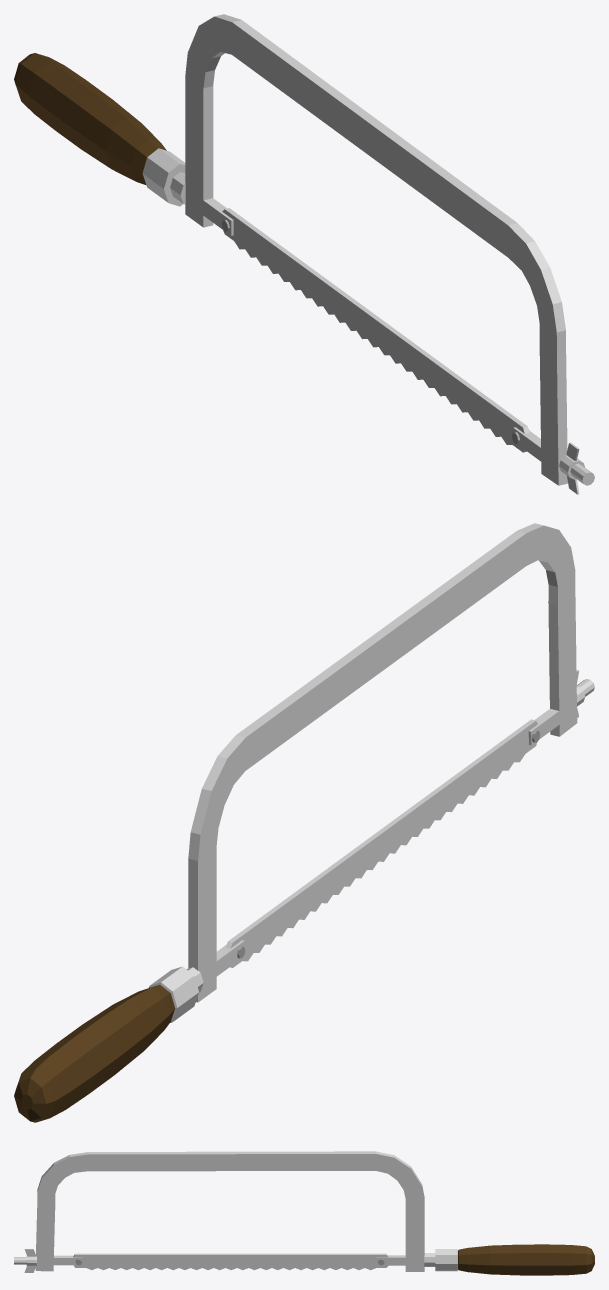
The model's file is saw_precision.glb.
3 renders of one model, top to bottom at view 1: azimuth 30°, elevation 25°; view 2: azimuth 150°, elevation 25°; view 3: azimuth 270°, elevation 25°, orthographic. The views are drawn at different scales.
Visible parts, largest first — view 1: saw_precision; view 2: saw_precision; view 3: saw_precision.
Part boxes in pixels (left/top/right/bottom): saw_precision: left=14, top=14, right=594, bottom=494; saw_precision: left=14, top=523, right=594, bottom=1122; saw_precision: left=14, top=1151, right=594, bottom=1275.
Size of the model in its own units: 0.0265 by 0.1327 by 0.5684.
